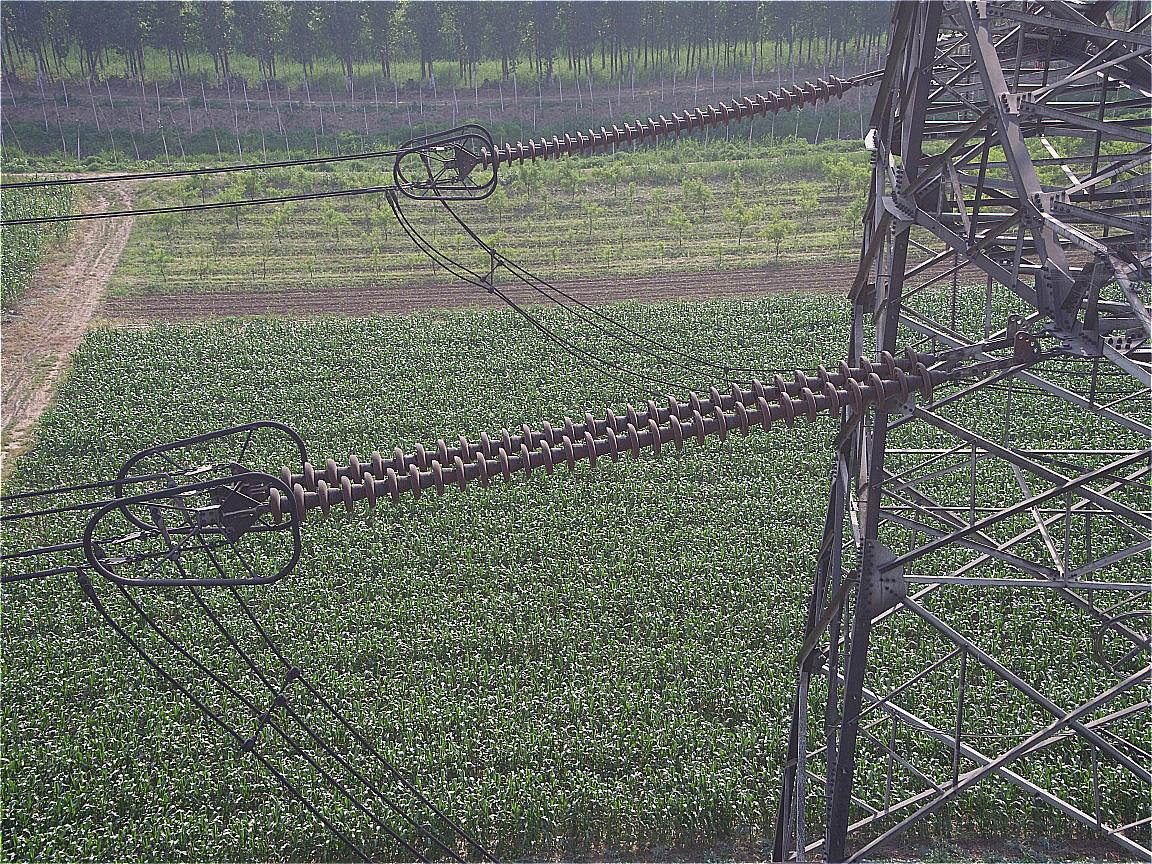insultor1: (268, 348, 933, 524), (480, 74, 847, 166)
